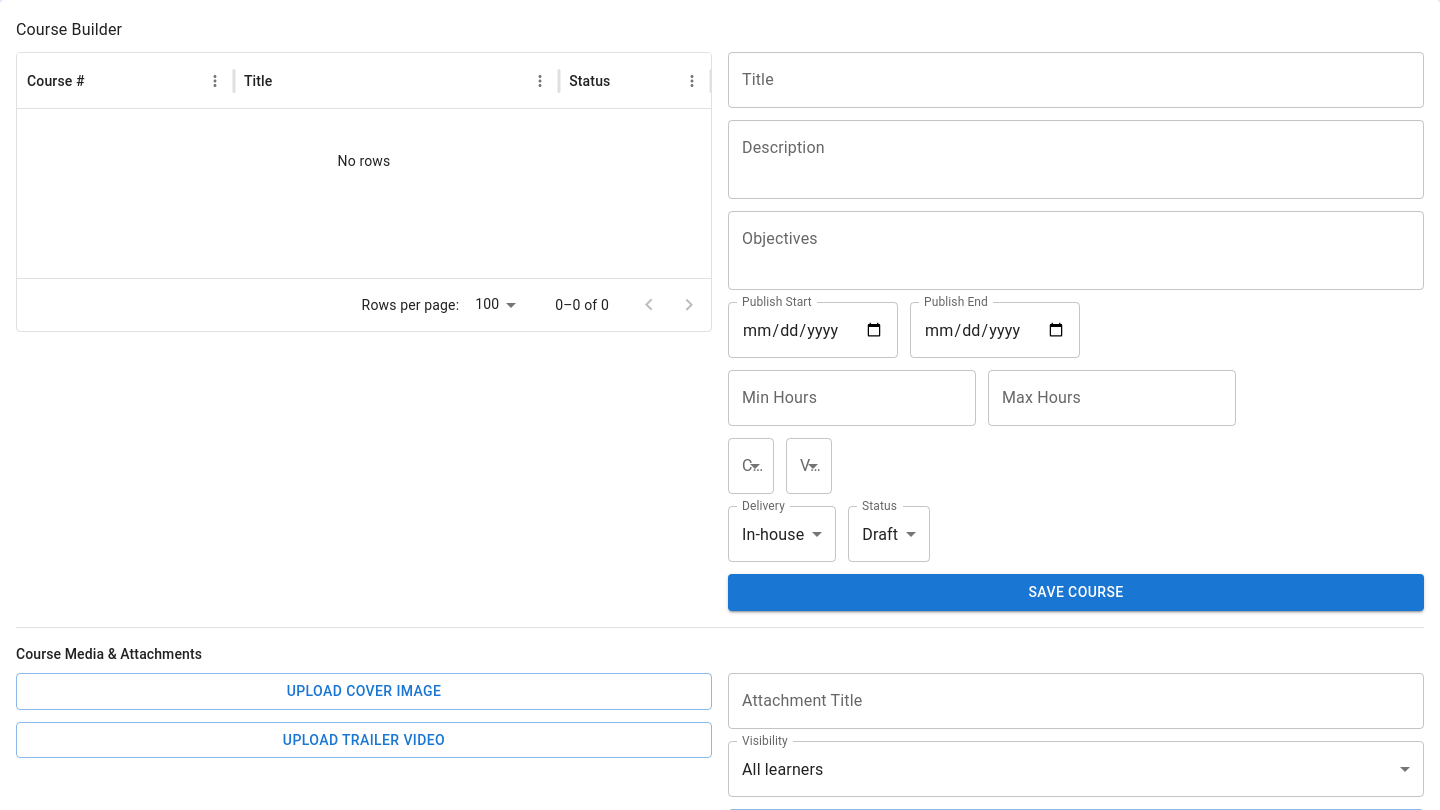
Test: TrainingDesignTab › validates required course fields before save
The width and height of the screenshot is (1440, 810).
Click the button "Save Course" at {"x": 1076, "y": 592}, box [728,574,1424,610]
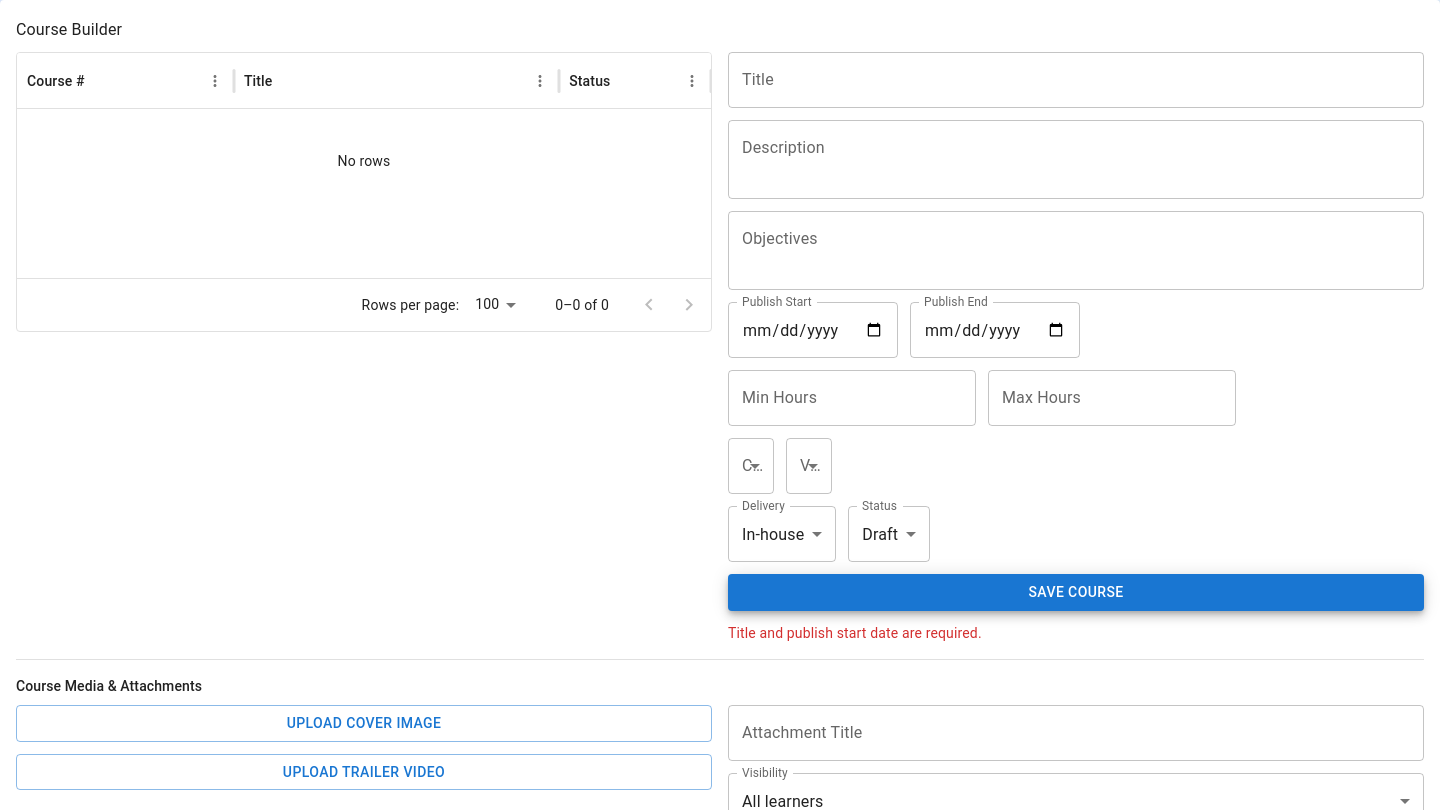
Expected: the text "Title and publish start date are required." is shown, [728,624,982,640]
